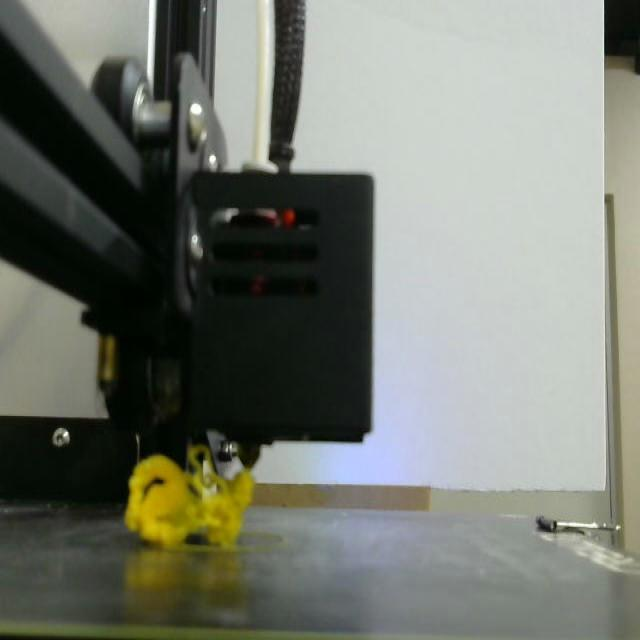spaghetti: (132, 444, 260, 558)
